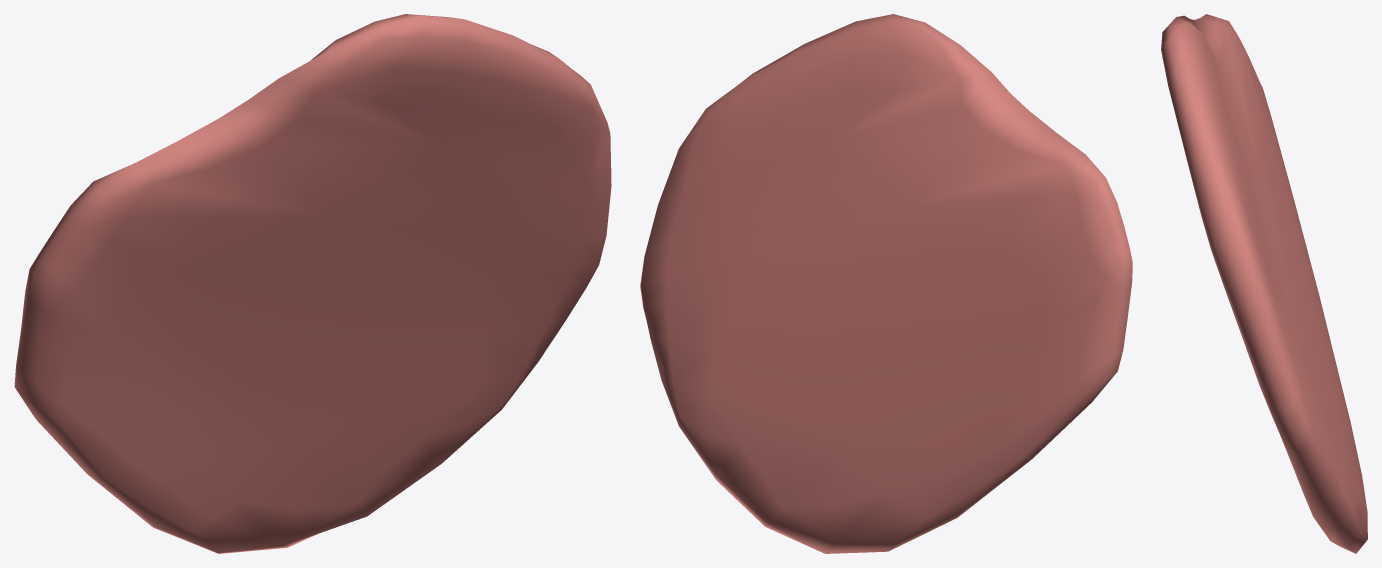
3 views of the same model, side by side, from view 1: azimuth 30°, elevation 25°; view 2: azimuth 150°, elevation 25°; view 3: azimuth 270°, elevation 25° (orthographic). The views are drawn at different scales.
Visible parts, largest first — view 1: ZA_2c3c7c3c18f69dc0; view 2: ZA_2c3c7c3c18f69dc0; view 3: ZA_2c3c7c3c18f69dc0.
Boxes of the visible parts, x1,y1,x2,y2 form: ZA_2c3c7c3c18f69dc0: (14,14,611,553); ZA_2c3c7c3c18f69dc0: (640,14,1132,553); ZA_2c3c7c3c18f69dc0: (1161,14,1367,553).
Bounding box in the file's own units: 0.00684 × 0.00659 × 0.00245.
